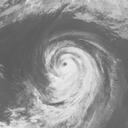cyclone: (39, 40, 101, 109)
